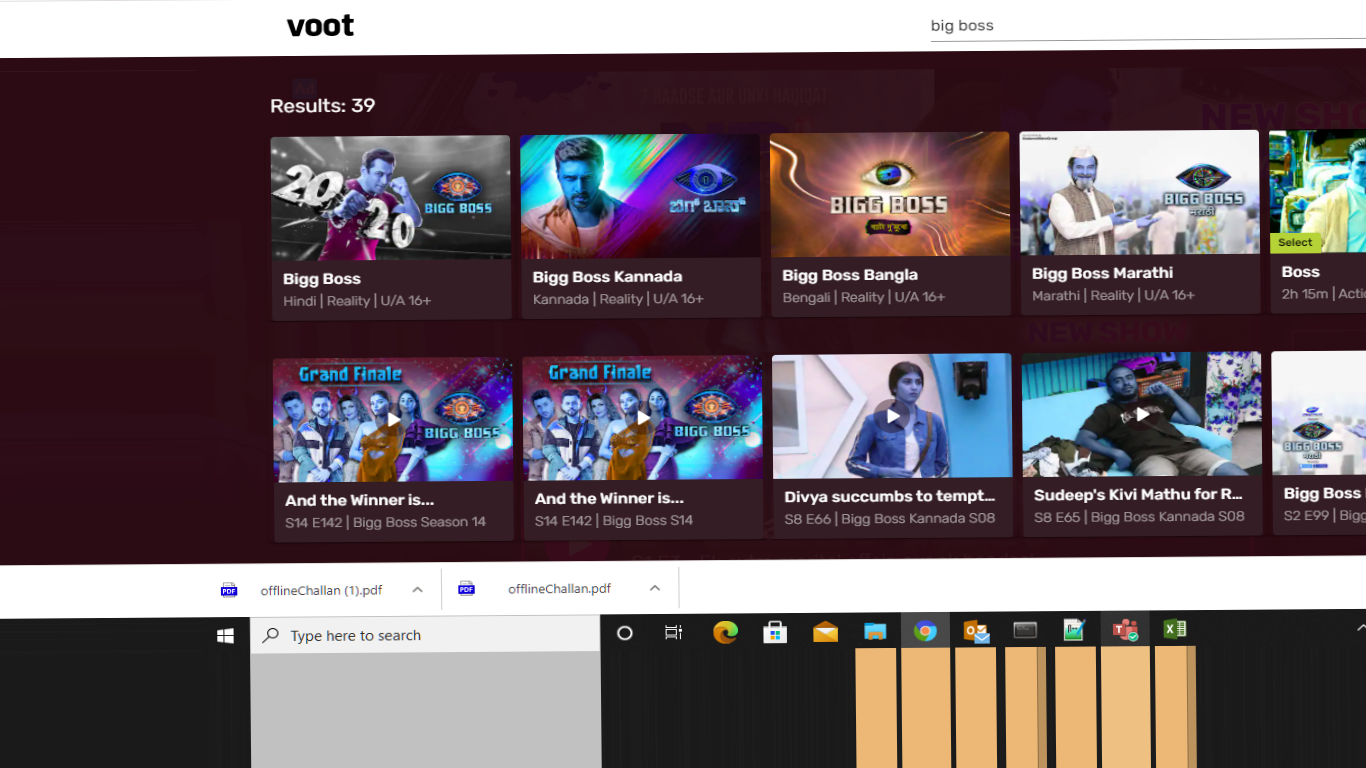resultsfound: (263, 79, 405, 123)
searchtextbox: (919, 3, 1366, 62)
